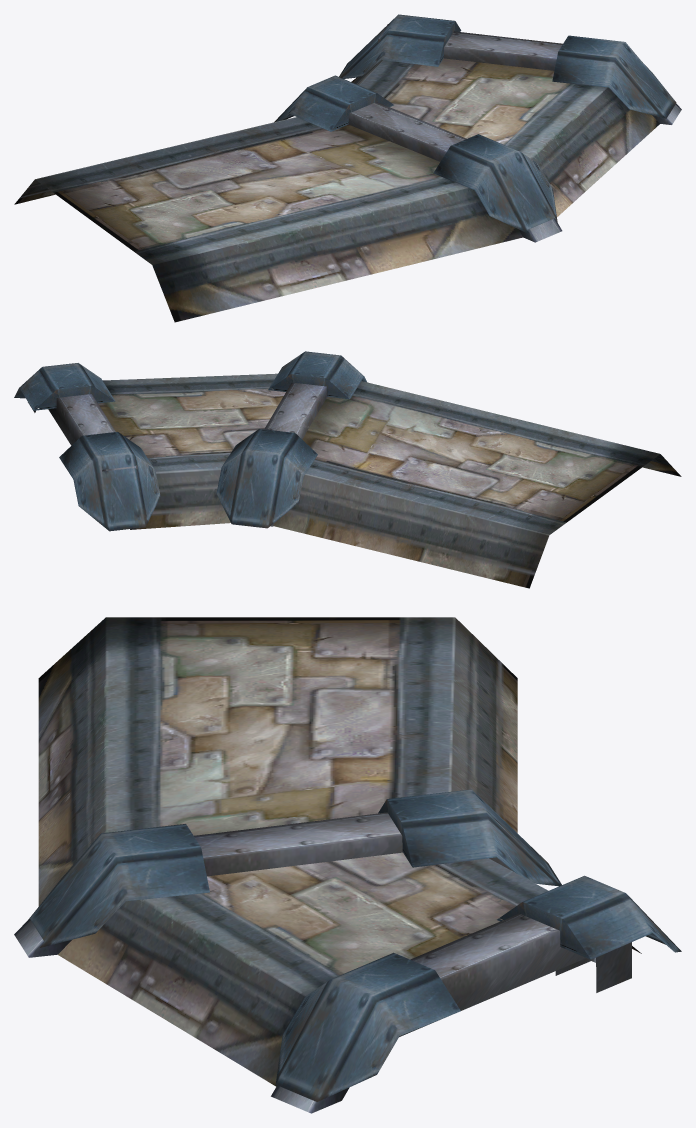
Rendered from obj_madaprroad45l.glb.
The picture shows the model from 3 angles, top to bottom: view 1: azimuth 30°, elevation 25°; view 2: azimuth 150°, elevation 25°; view 3: azimuth 270°, elevation 25°; orthographic projection. The views are drawn at different scales.
Parts seen in each view (by area): view 1: part_0; view 2: part_0; view 3: part_0.
Boxes of the visible parts, x1,y1,x2,y2 form: part_0: (14,14,681,322); part_0: (14,351,681,588); part_0: (14,617,681,1113).
Bounding box in the file's own units: 11.8 × 1.15 × 7.65.
Materials: 1 (1 with a texture image).
